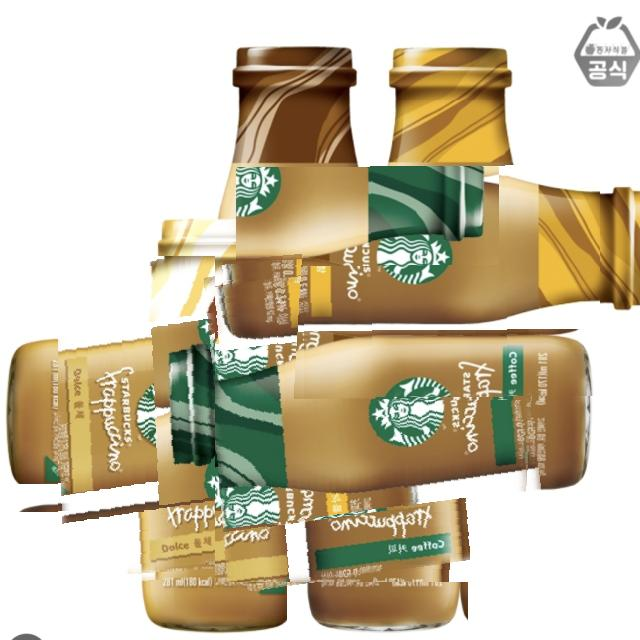recyclable: (215, 255, 540, 582), (58, 256, 383, 580), (302, 100, 600, 398)
